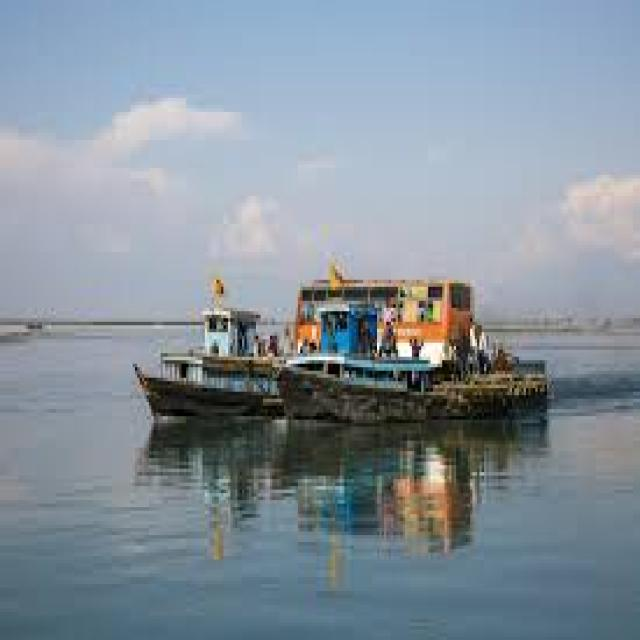cargoship: (282, 272, 572, 449), (135, 264, 283, 414)
